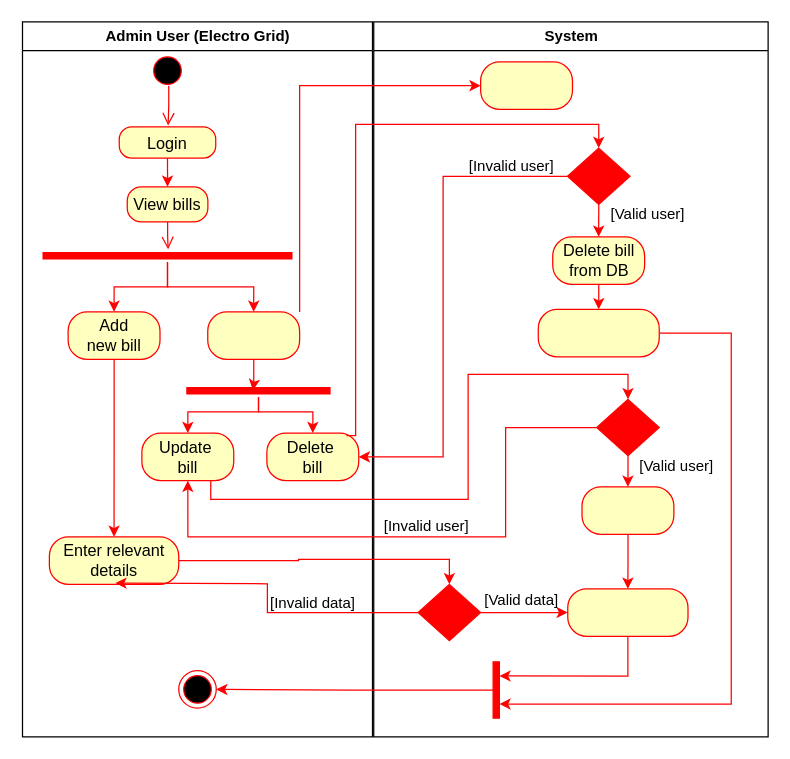
Some shapes in this 790 by 759 pixel diagram are drawn without their labels. The shapes that lost their labels are listed below. From the top down, each one's centre as x and y in pixels, then its label:
At (525,85): "Show bill details".
At (253,335): "Select existing bill".
At (598,332): "Show success message".
At (627,510): "Update bill details".
At (627,612): "Show updated bill".
